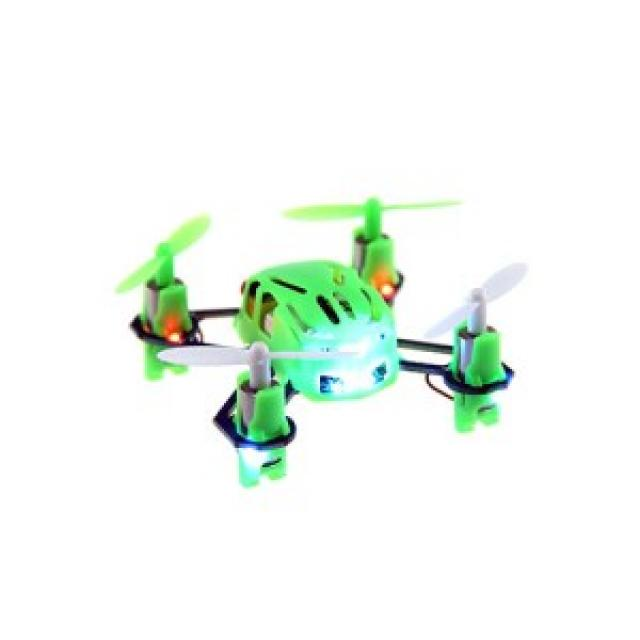drones: (96, 191, 538, 494)
